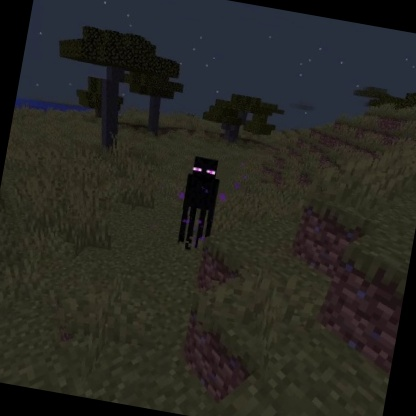enderman: (171, 151, 227, 255)
